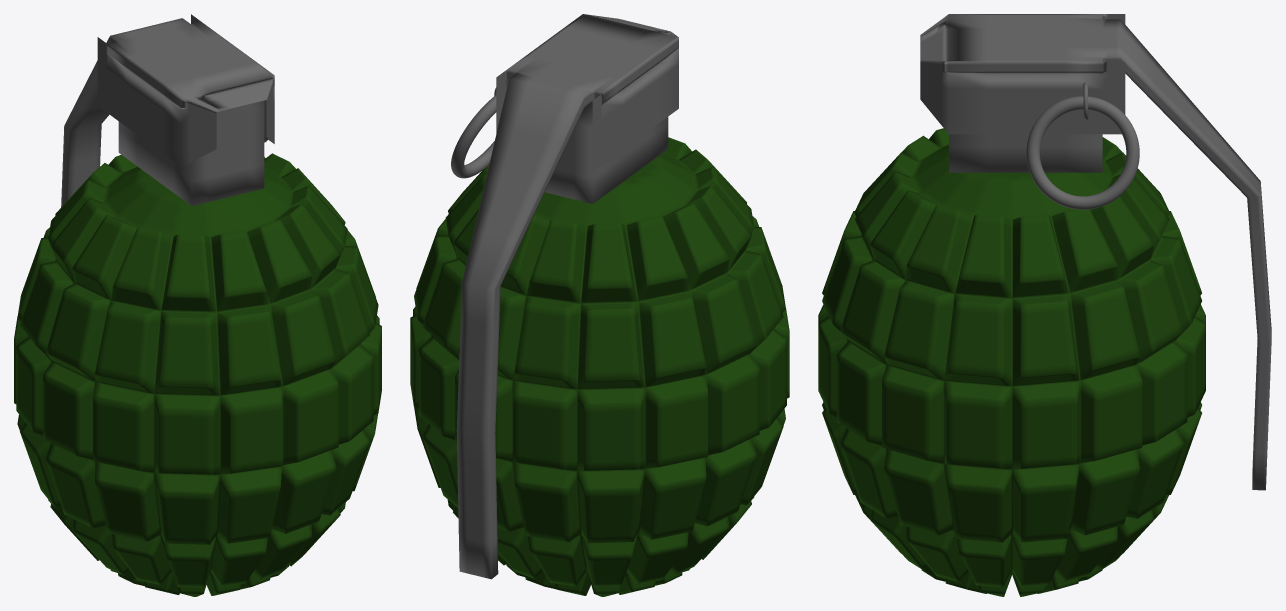
Rendered from Grenade.glb.
3 views of the same model, side by side, from view 1: azimuth 30°, elevation 25°; view 2: azimuth 150°, elevation 25°; view 3: azimuth 270°, elevation 25° (orthographic). The views are drawn at different scales.
Parts seen in each view (by area): view 1: Sphere, Cube; view 2: Sphere, Cube, Torus.001; view 3: Sphere, Cube, Torus.001.
Part boxes in pixels (x1=…): Sphere: x1=14, y1=153, x2=381, y2=596; Cube: x1=61, y1=14, x2=274, y2=207; Sphere: x1=410, y1=137, x2=789, y2=596; Cube: x1=456, y1=14, x2=678, y2=579; Torus.001: x1=451, y1=95, x2=496, y2=178; Sphere: x1=818, y1=128, x2=1205, y2=596; Cube: x1=920, y1=14, x2=1271, y2=490; Torus.001: x1=1026, y1=96, x2=1139, y2=209.
Bounding box in the file's own units: 2.15 × 3.3 × 2.52.
